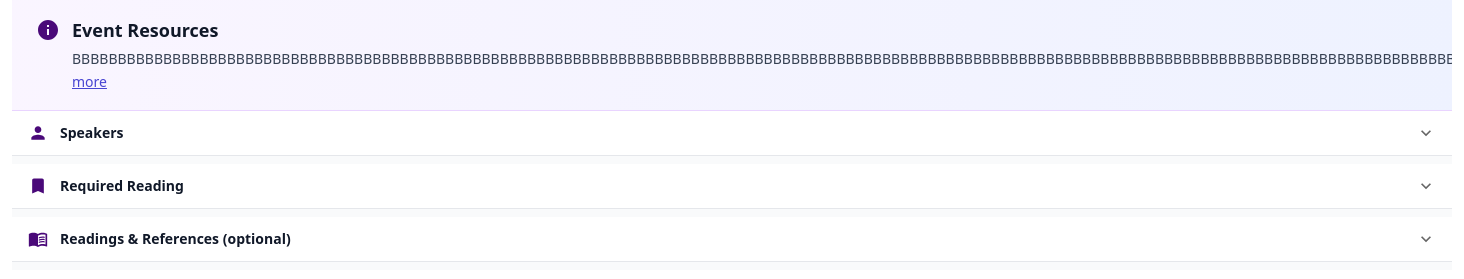
it: ResourcesPanel › header / event info › collapses expanded description back on 'less' click
Click the button "more": (90, 82) [72, 71, 107, 94]
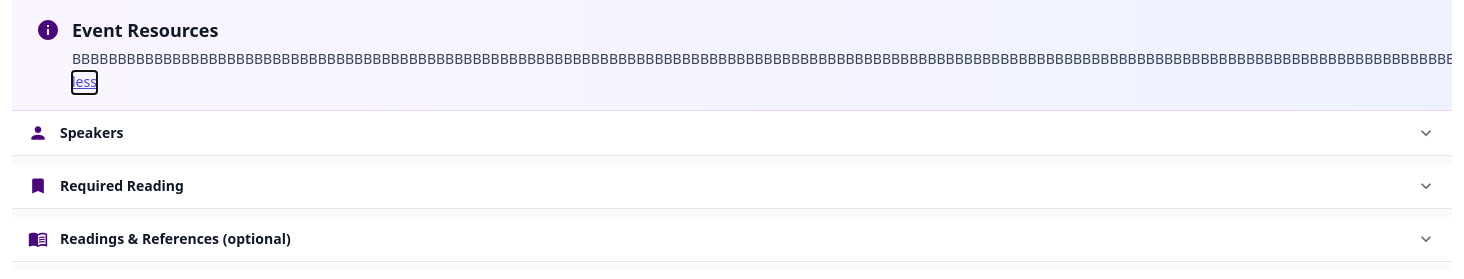
Click the button "less": (84, 82) [72, 71, 97, 94]
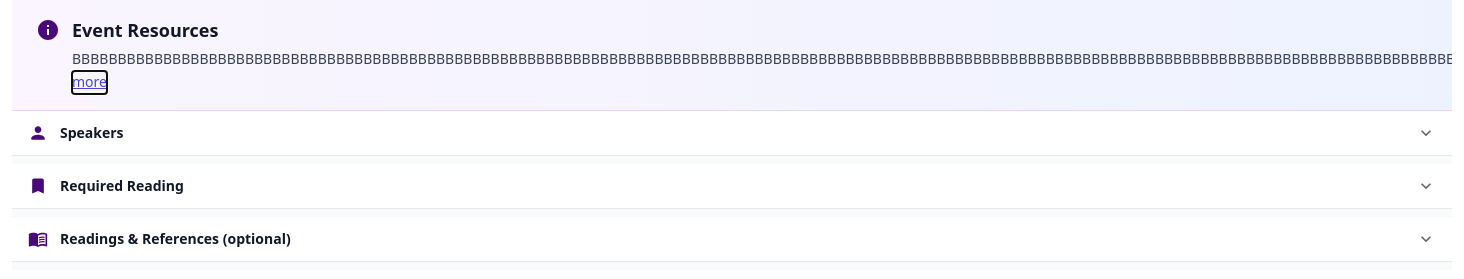
Expected: the button "more" is shown, [72, 71, 107, 94]
